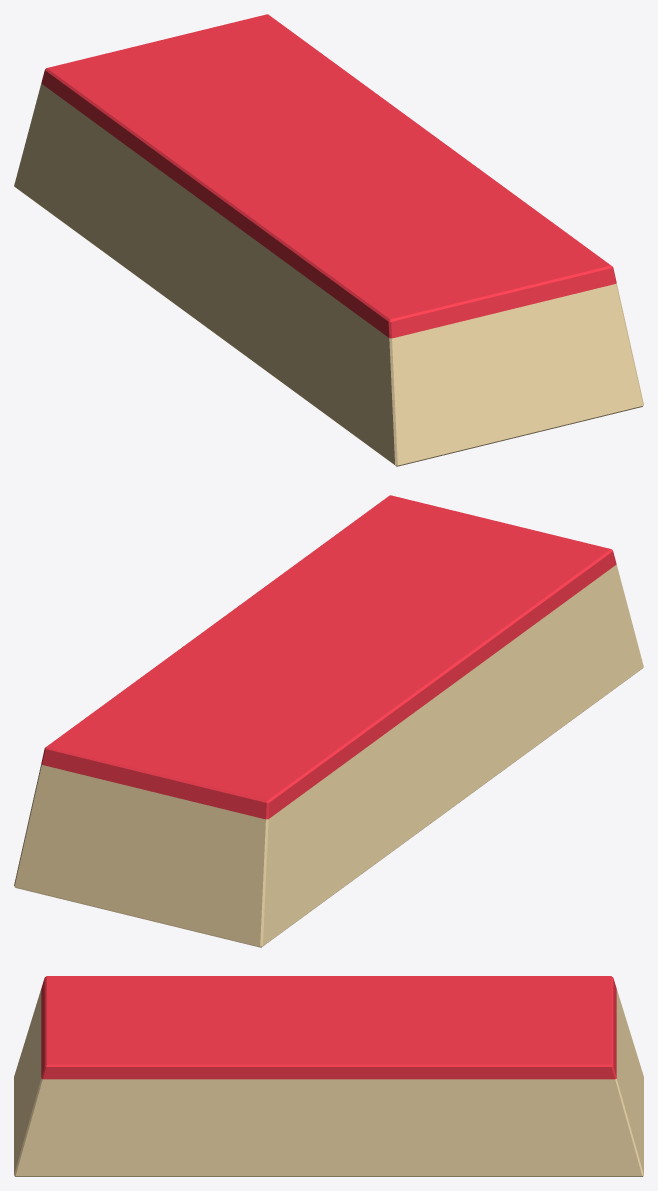
The model's file is House_25.fbx.
3 views of the same model, one above another, from view 1: azimuth 30°, elevation 25°; view 2: azimuth 150°, elevation 25°; view 3: azimuth 270°, elevation 25° (orthographic). The views are drawn at different scales.
Visible parts, largest first — view 1: House_25; view 2: House_25; view 3: House_25.
Boxes of the visible parts, x1,y1,x2,y2 form: House_25: [14, 14, 643, 466]; House_25: [14, 495, 643, 947]; House_25: [14, 976, 643, 1176].
Bounding box in the file's own units: 112 × 56.25 × 300.
